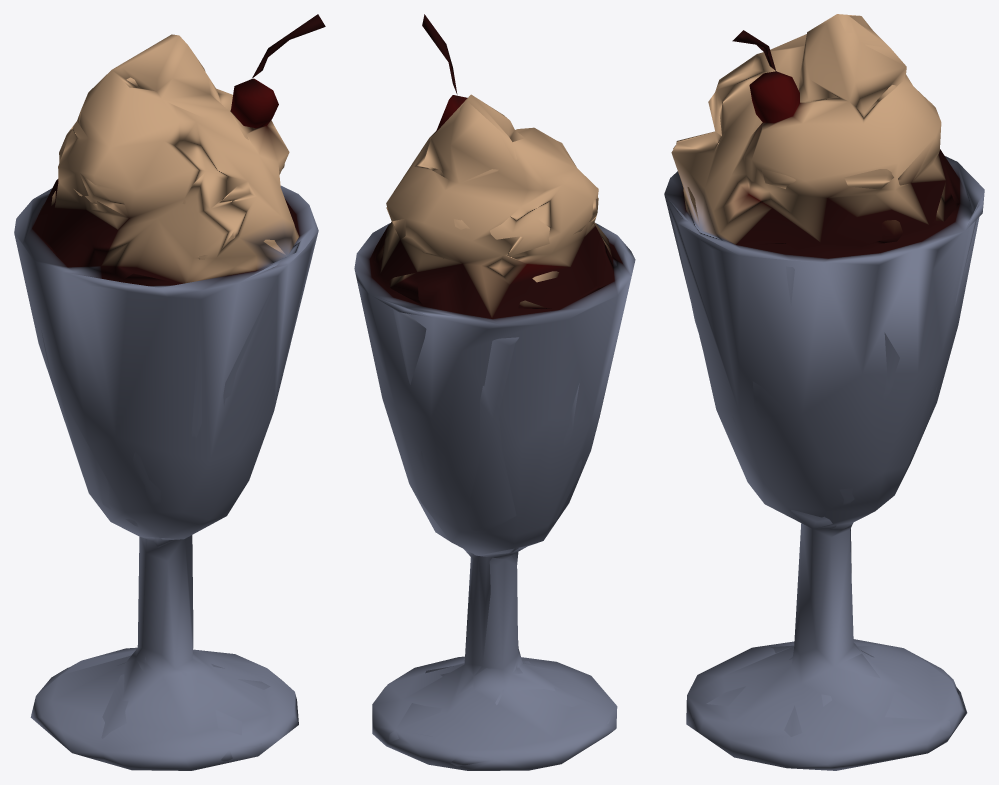
Rendered from gen3d-sundae-lod1.glb.
3 views of the same model, side by side, from view 1: azimuth 30°, elevation 25°; view 2: azimuth 150°, elevation 25°; view 3: azimuth 270°, elevation 25° (orthographic). The views are drawn at different scales.
Parts seen in each view (by area): view 1: part_0; view 2: part_0; view 3: part_0.
Part boxes in pixels (x1,y1,x2,y2): part_0: (14,14,325,770); part_0: (354,14,635,770); part_0: (664,14,984,770).
Size of the model in its own units: 0.3932 by 0.9999 by 0.3923.
